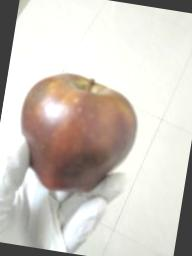Apple Overripe: (9, 61, 146, 205)
